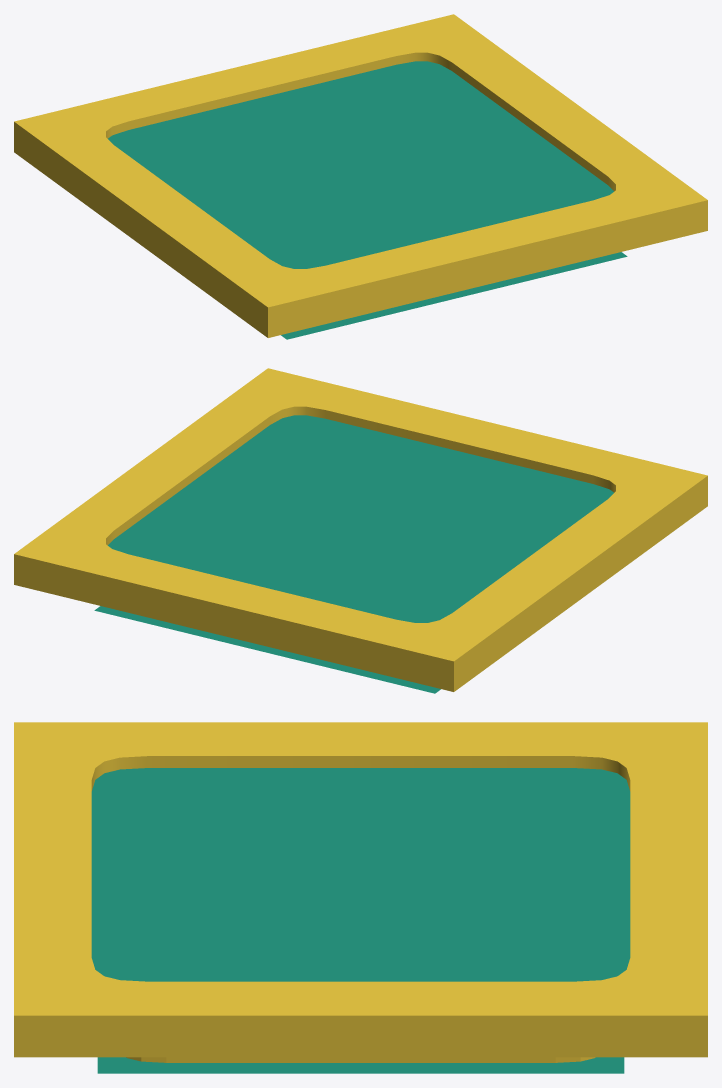
Rendered from Floor_A_LineHalf_Win.FBX.
3 views of the same model, one above another, from view 1: azimuth 30°, elevation 25°; view 2: azimuth 150°, elevation 25°; view 3: azimuth 270°, elevation 25° (orthographic). The views are drawn at different scales.
Parts seen in each view (by area): view 1: Floor_A_LineHalf_Win, Floor_A_LineHalf_Win_Glass; view 2: Floor_A_LineHalf_Win, Floor_A_LineHalf_Win_Glass; view 3: Floor_A_LineHalf_Win, Floor_A_LineHalf_Win_Glass.
Part boxes in pixels (bbox=[...]): Floor_A_LineHalf_Win: bbox=[14, 14, 707, 337]; Floor_A_LineHalf_Win_Glass: bbox=[108, 61, 627, 339]; Floor_A_LineHalf_Win: bbox=[14, 368, 707, 691]; Floor_A_LineHalf_Win_Glass: bbox=[94, 415, 613, 693]; Floor_A_LineHalf_Win: bbox=[14, 722, 707, 1062]; Floor_A_LineHalf_Win_Glass: bbox=[91, 768, 630, 1073].
Size of the model in its own units: 300 by 43.52 by 300.
